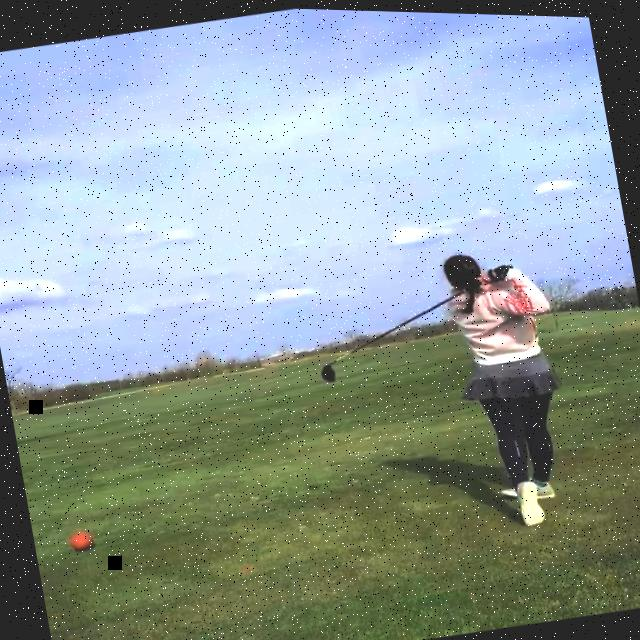ClubHead: (319, 361, 336, 381)
